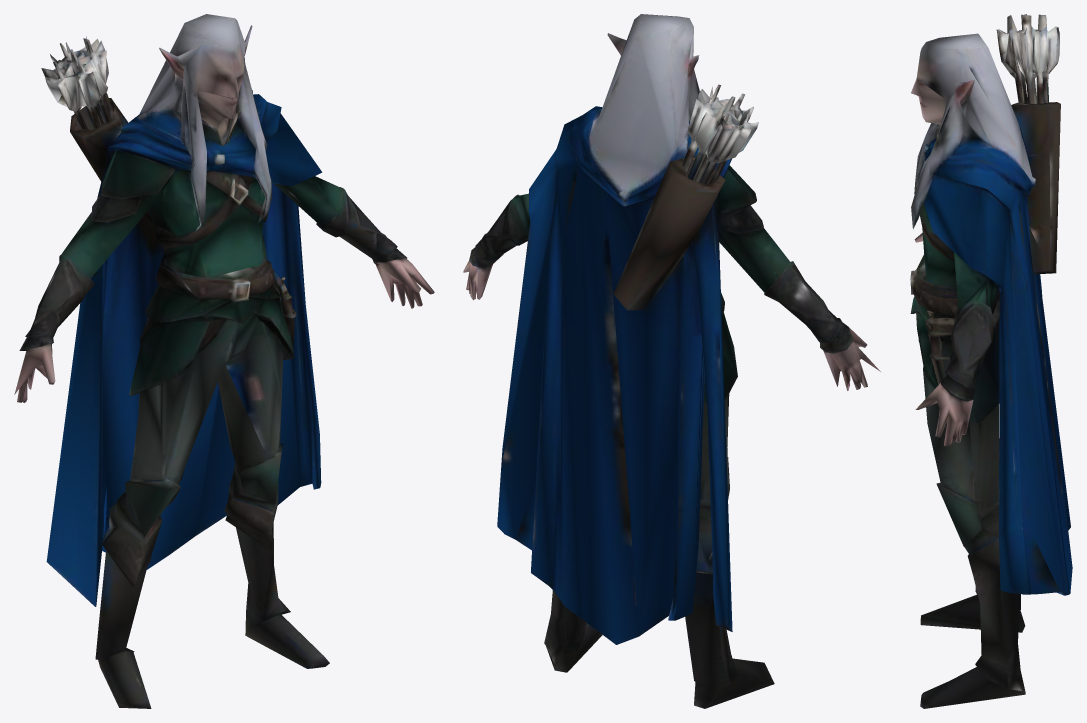
File: elf_arch_lo.glb
3 views of the same model, side by side, from view 1: azimuth 30°, elevation 25°; view 2: azimuth 150°, elevation 25°; view 3: azimuth 270°, elevation 25° (orthographic). The views are drawn at different scales.
Visible parts, largest first — view 1: node_0; view 2: node_0; view 3: node_0.
Part boxes in pixels (x1,y1,x2,y2): node_0: [14, 14, 434, 708]; node_0: [463, 14, 880, 708]; node_0: [910, 14, 1072, 708].
Bounding box in the file's own units: 0.7553 × 1.12 × 0.2631.
1 material, 1 textured.
